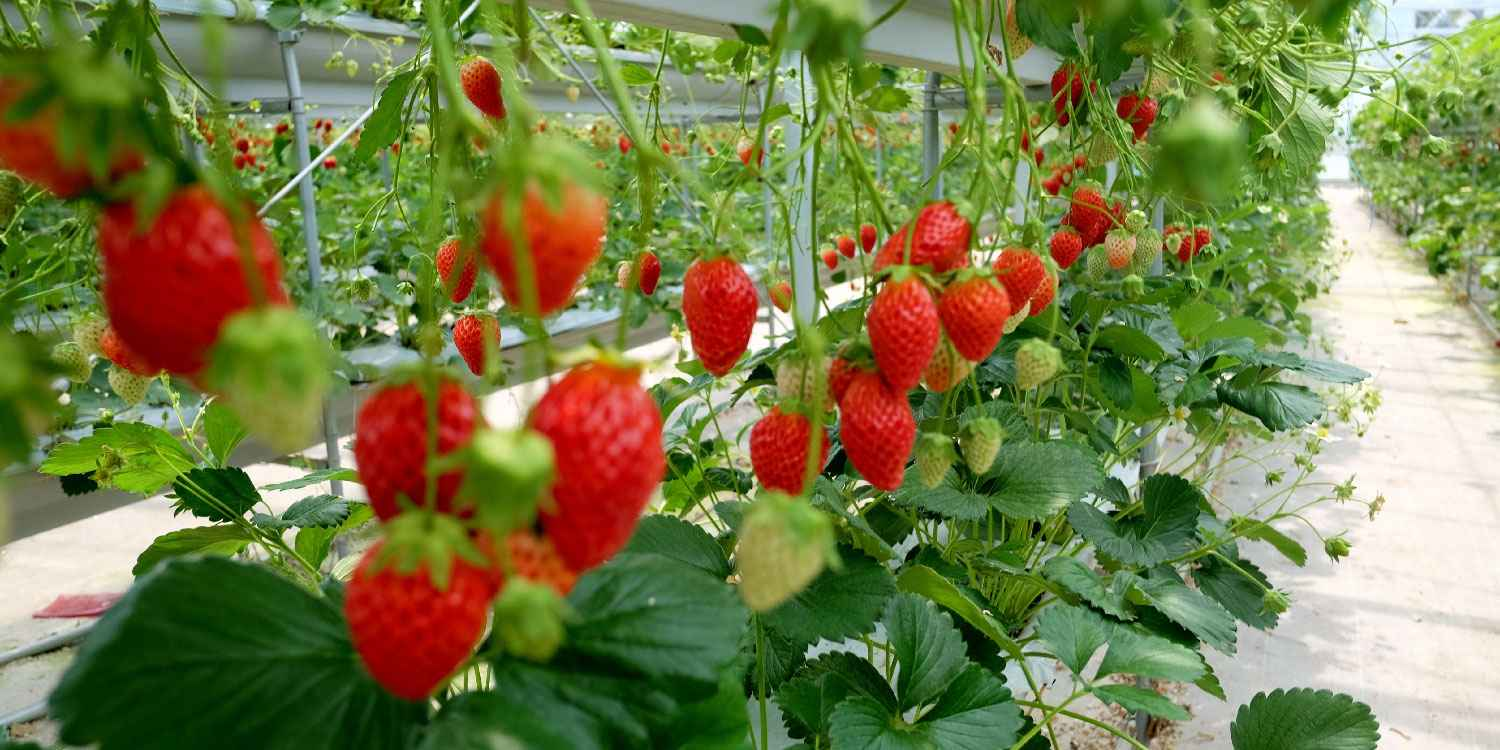ripe_strawberry: (102, 176, 292, 404), (525, 359, 670, 574), (346, 529, 491, 703), (353, 373, 491, 528), (480, 175, 608, 321), (682, 253, 760, 381), (839, 370, 919, 494), (865, 269, 940, 390), (472, 523, 579, 600), (749, 403, 832, 498), (872, 200, 976, 273), (937, 271, 1009, 365), (991, 245, 1046, 318), (453, 309, 504, 376), (456, 55, 507, 122), (435, 235, 481, 306), (1050, 65, 1096, 129), (1070, 179, 1106, 248), (1117, 90, 1158, 146), (1049, 225, 1082, 272), (1027, 270, 1059, 318), (736, 137, 765, 174), (637, 254, 661, 297), (768, 280, 795, 316), (859, 218, 878, 256), (1175, 231, 1195, 264), (1192, 227, 1212, 256), (836, 235, 857, 260), (1042, 174, 1063, 197), (820, 247, 839, 272)
unripe_strawberry: (220, 310, 330, 457), (734, 494, 833, 613), (493, 582, 573, 664), (776, 350, 831, 416), (960, 418, 1002, 475), (915, 433, 955, 491), (1015, 341, 1061, 391), (73, 312, 111, 363), (51, 341, 94, 385), (106, 367, 154, 406), (1002, 2, 1031, 62), (1088, 127, 1119, 169), (1253, 134, 1283, 177), (1105, 229, 1137, 269), (1134, 229, 1163, 271), (1001, 298, 1032, 336), (1120, 33, 1155, 59), (1086, 245, 1109, 284), (1323, 535, 1354, 560), (349, 276, 375, 305), (615, 260, 637, 294), (100, 444, 124, 471), (1265, 588, 1289, 615), (1122, 276, 1144, 302), (1127, 211, 1147, 230), (1167, 234, 1181, 256)
